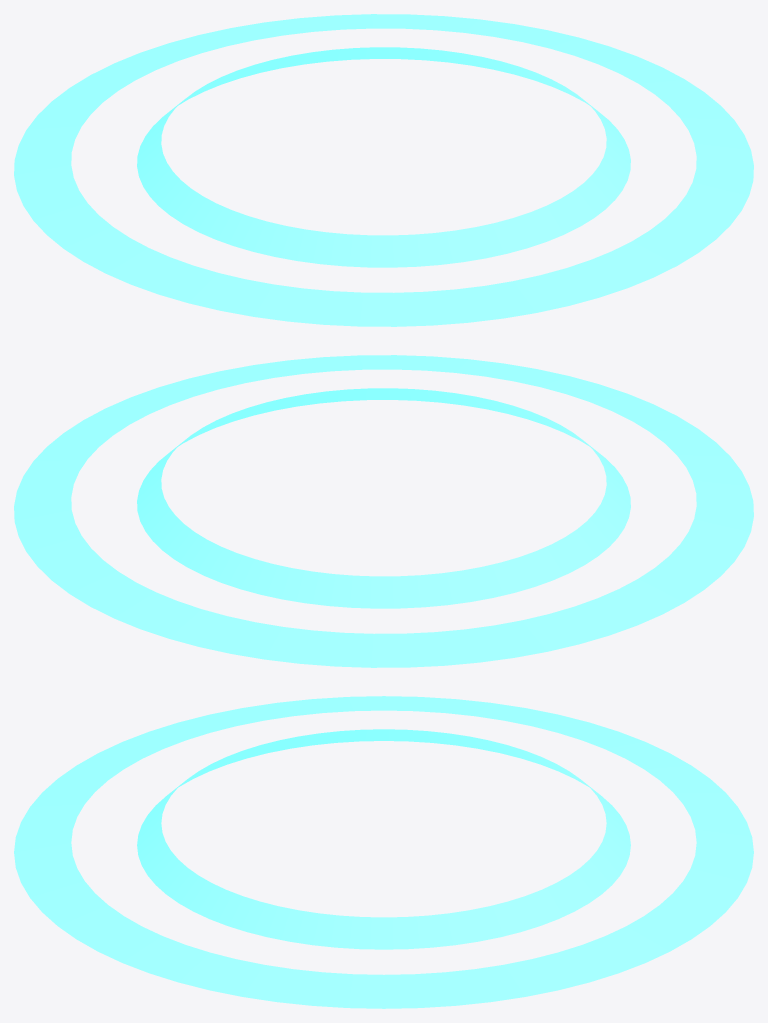
Rendered from emissive_mesh.fbx.
3 views of the same model, one above another, from view 1: azimuth 30°, elevation 25°; view 2: azimuth 150°, elevation 25°; view 3: azimuth 270°, elevation 25° (orthographic).
Parts seen in each view (by area): view 1: Cylinder.042, Cylinder.054; view 2: Cylinder.042, Cylinder.054; view 3: Cylinder.042, Cylinder.054.
Part boxes in pixels (box(x1,y1,x2,y2)): Cylinder.042: box(14, 14, 753, 326); Cylinder.054: box(137, 47, 630, 267); Cylinder.042: box(14, 355, 753, 667); Cylinder.054: box(137, 388, 630, 608); Cylinder.042: box(14, 696, 753, 1008); Cylinder.054: box(137, 729, 630, 949).
Bounding box in the file's own units: 1238 × 53.82 × 1238.
